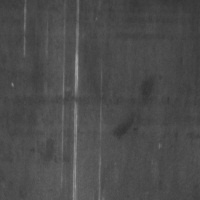scratches: (68, 3, 85, 199)
